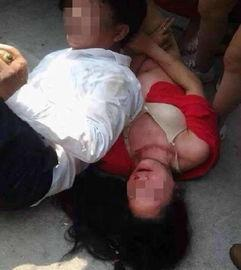Fall-Detected: (102, 5, 235, 259)
